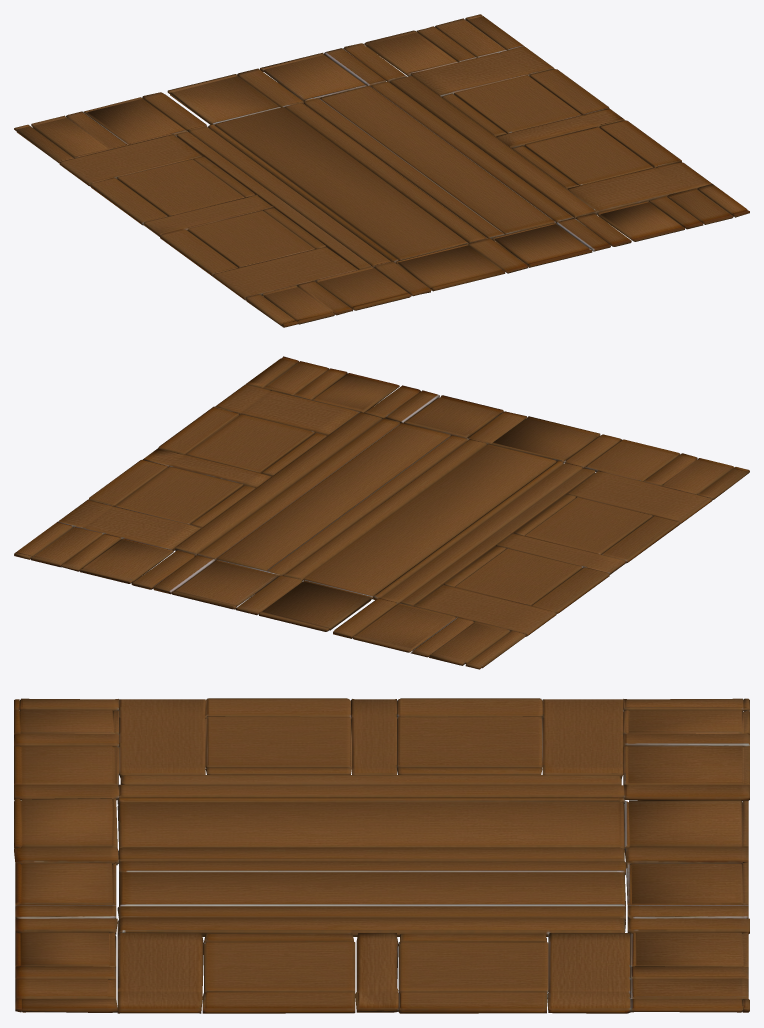
The model's file is Floor+3d+model.fbx.
3 views of the same model, one above another, from view 1: azimuth 30°, elevation 25°; view 2: azimuth 150°, elevation 25°; view 3: azimuth 270°, elevation 25° (orthographic). The views are drawn at different scales.
Parts seen in each view (by area): view 1: tripo_node_7579a2db-d16a-41ba-84c4-ea0a3ed38c05; view 2: tripo_node_7579a2db-d16a-41ba-84c4-ea0a3ed38c05; view 3: tripo_node_7579a2db-d16a-41ba-84c4-ea0a3ed38c05.
Part boxes in pixels (x1,y1,x2,y2): tripo_node_7579a2db-d16a-41ba-84c4-ea0a3ed38c05: (14, 14, 749, 327); tripo_node_7579a2db-d16a-41ba-84c4-ea0a3ed38c05: (14, 356, 749, 669); tripo_node_7579a2db-d16a-41ba-84c4-ea0a3ed38c05: (14, 698, 749, 1013).
Bounding box in the file's own units: 0.998 × 0.00977 × 0.998.
1 material, 1 textured.
